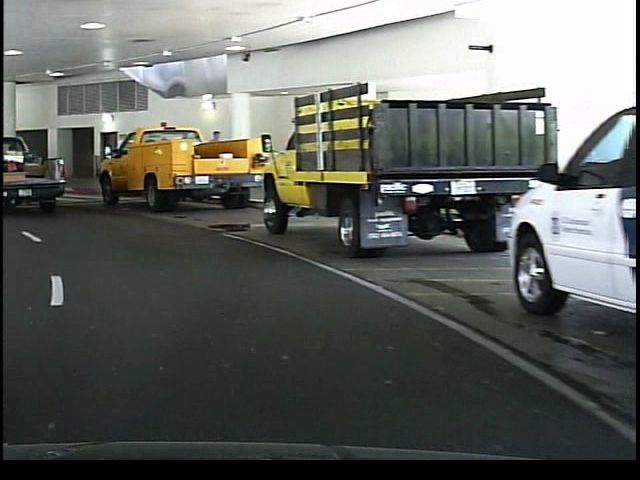person: (203, 124, 226, 196)
